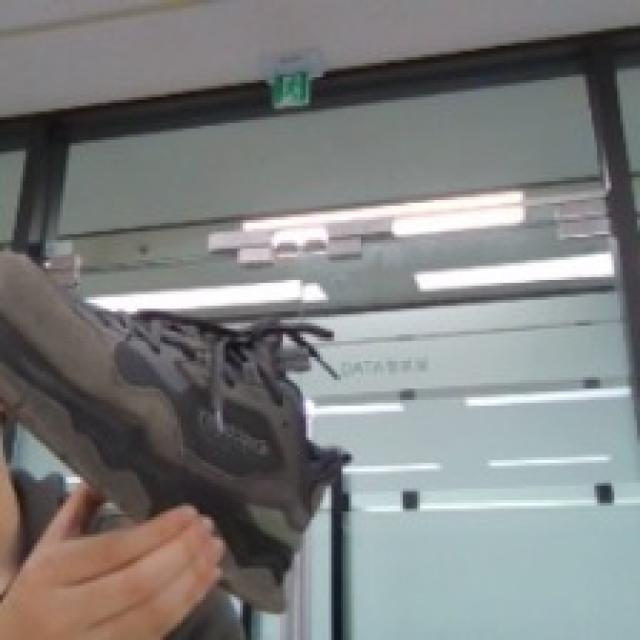shoe: (0, 214, 377, 640)
